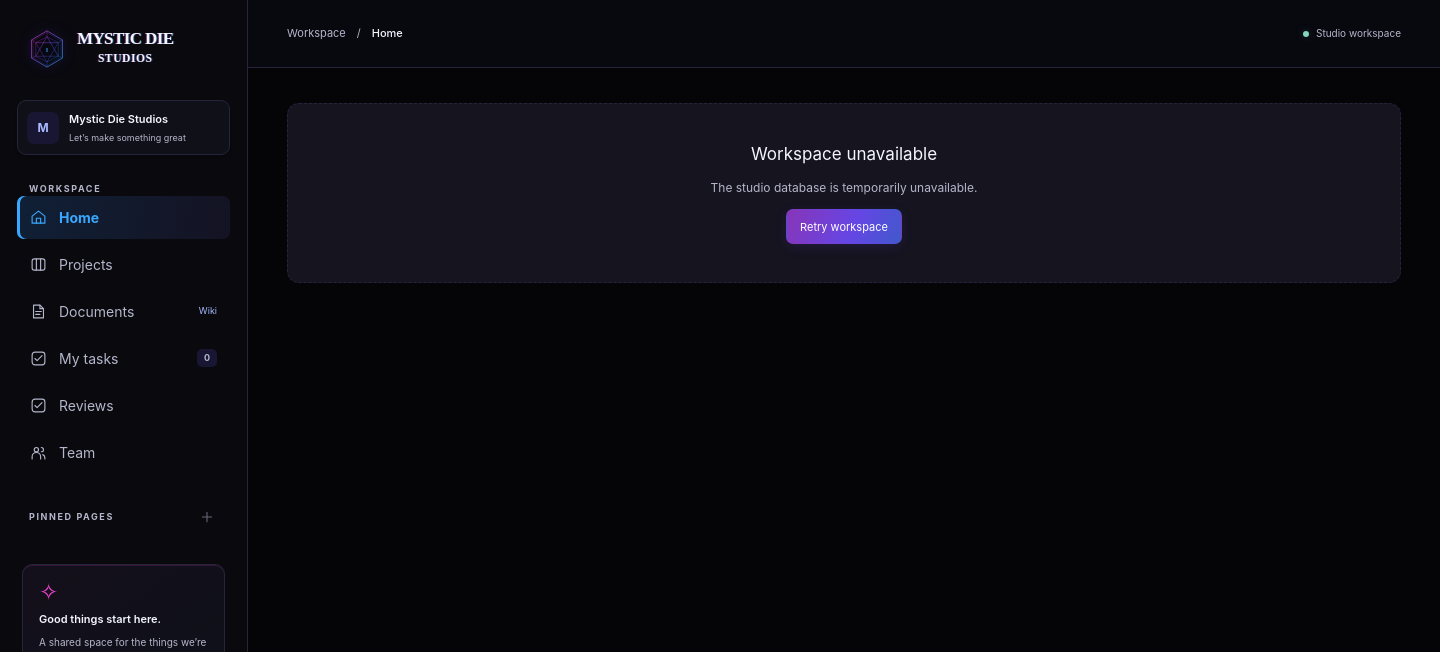
Authenticated studio platform › shows a workspace load failure and retries instead of displaying demo data
Check: the text "The studio database is temporarily unavailable." is shown, box [710,179,977,197]
Click the button "Retry workspace": (844, 227) [786,209,902,244]
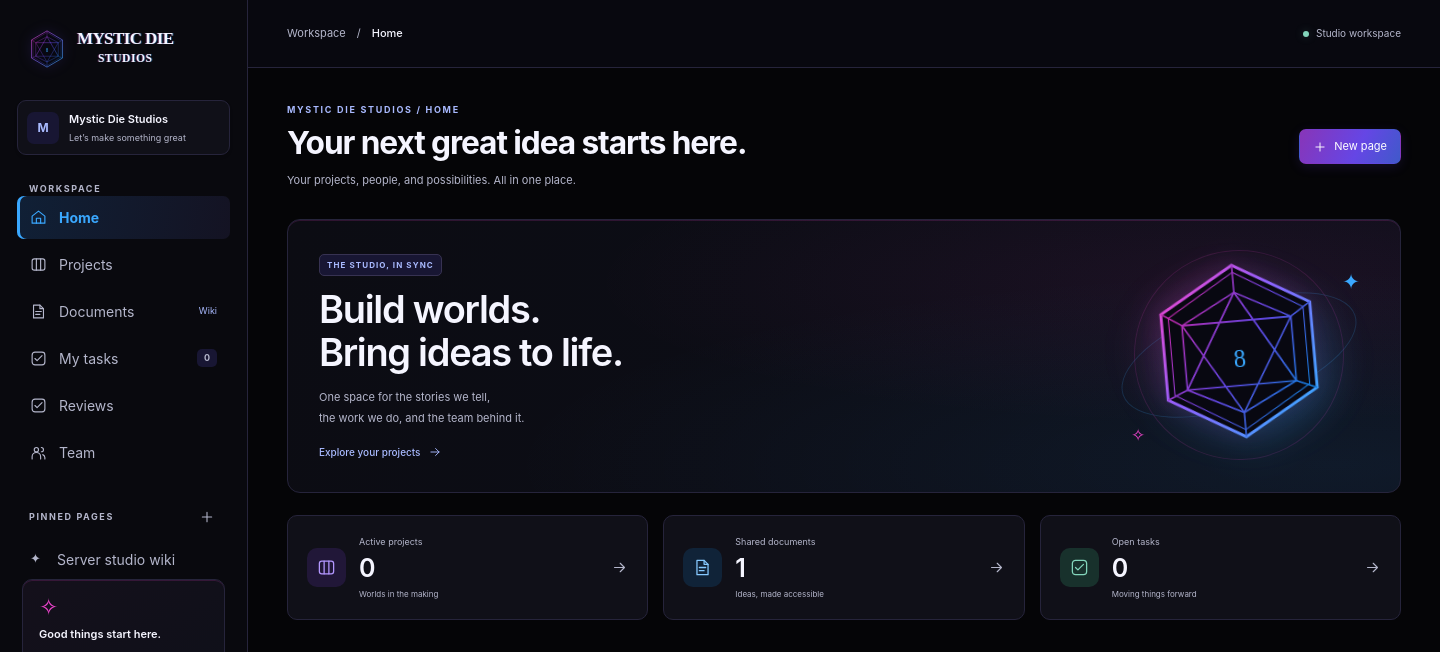
Check: the button "✦ Server studio wiki" is shown, box [17,540,230,578]
